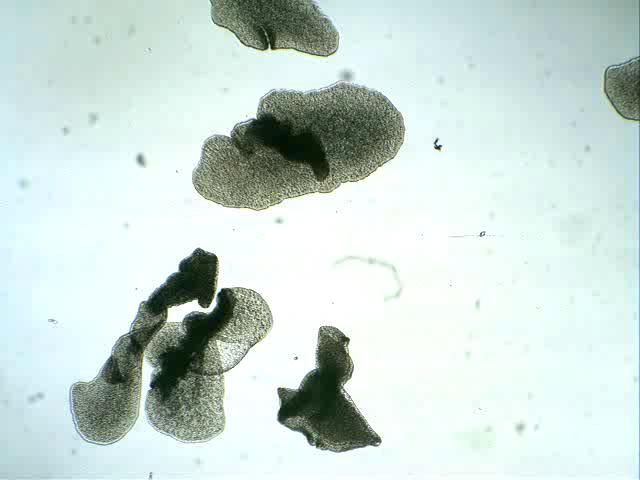Placozoan: (69, 248, 219, 445), (192, 82, 405, 211), (144, 287, 274, 443), (276, 327, 383, 453), (210, 0, 339, 55), (603, 56, 640, 122)
